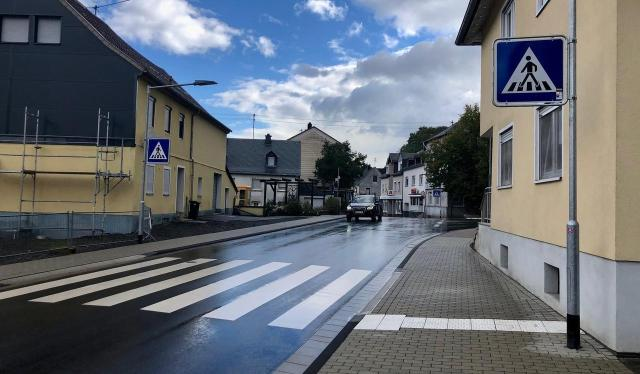crosswalk-sign: (492, 36, 568, 108), (147, 139, 171, 166)
